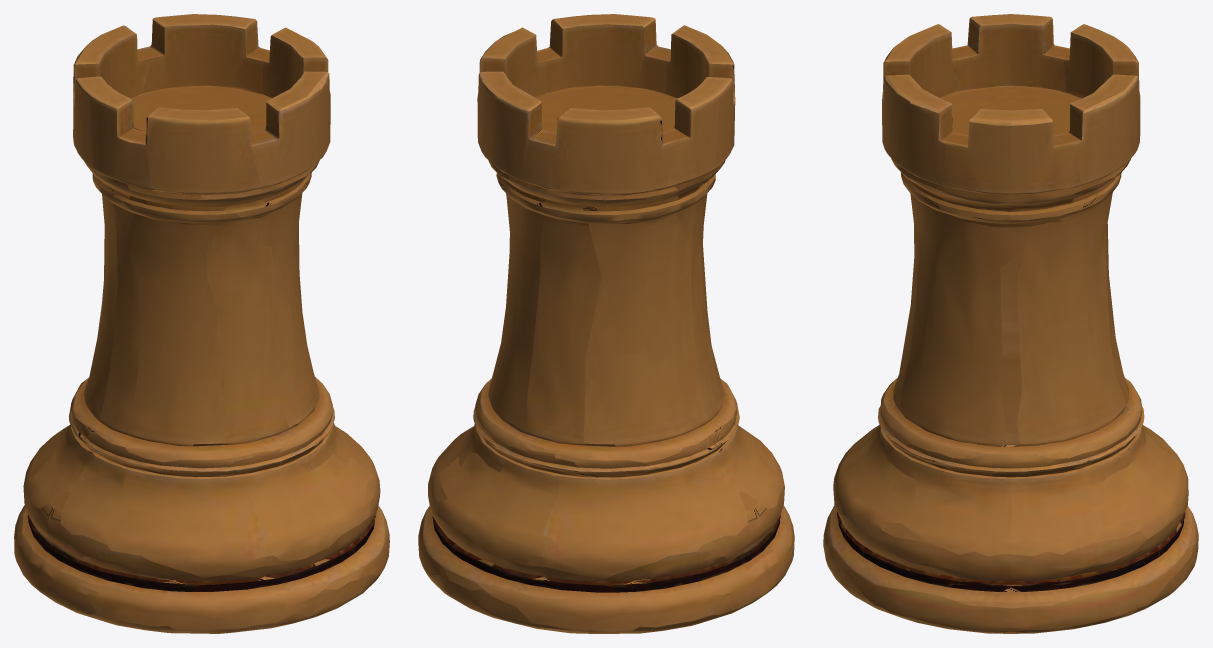
The model's file is white-rook.glb.
The picture shows the model from 3 angles, left to right: view 1: azimuth 30°, elevation 25°; view 2: azimuth 150°, elevation 25°; view 3: azimuth 270°, elevation 25°; orthographic projection.
Parts seen in each view (by area): view 1: world; view 2: world; view 3: world.
Part boxes in pixels (bbox=[...]): world: bbox=[14, 14, 389, 633]; world: bbox=[418, 14, 794, 633]; world: bbox=[823, 14, 1198, 633].
Bounding box in the file's own units: 0.6897 × 1 × 0.69.
1 material, 1 textured.
